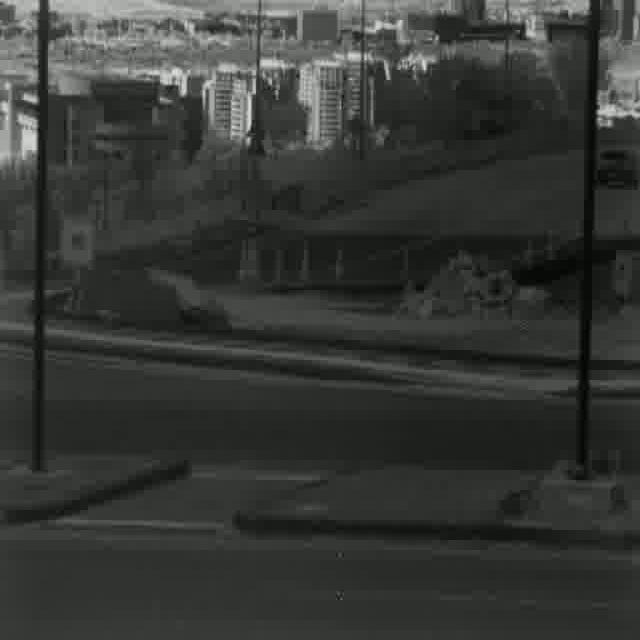Car: (597, 150, 639, 190)
